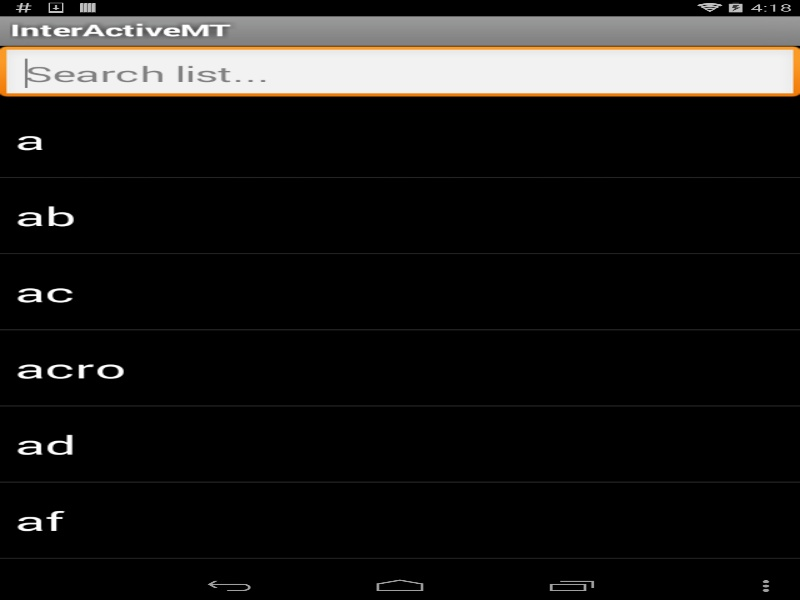Input: (0, 45, 800, 101)
